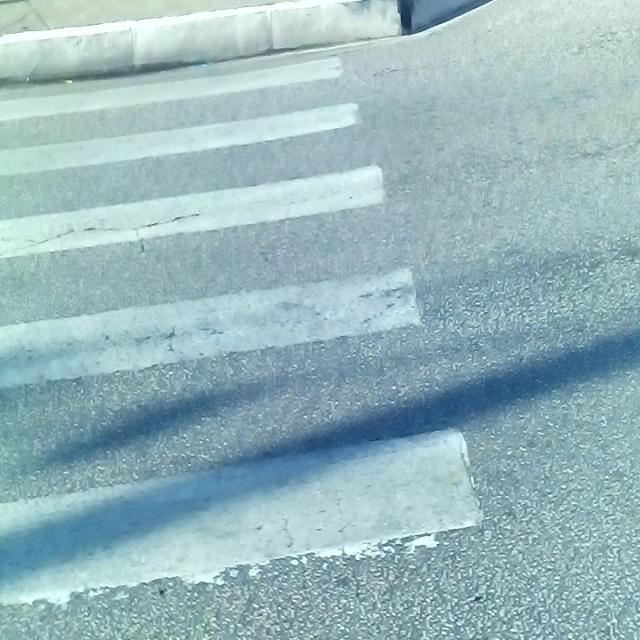crosswalk: (0, 44, 540, 640)
